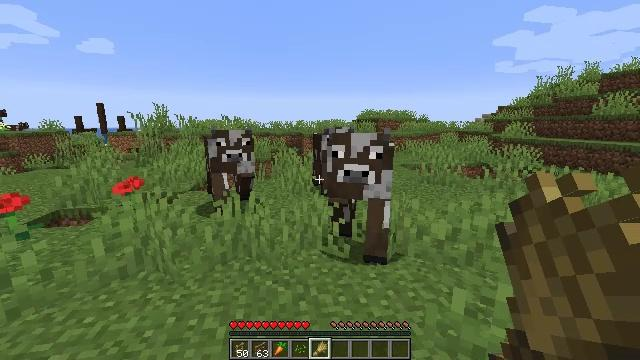cow: (326, 132, 392, 258), (206, 129, 255, 208)
